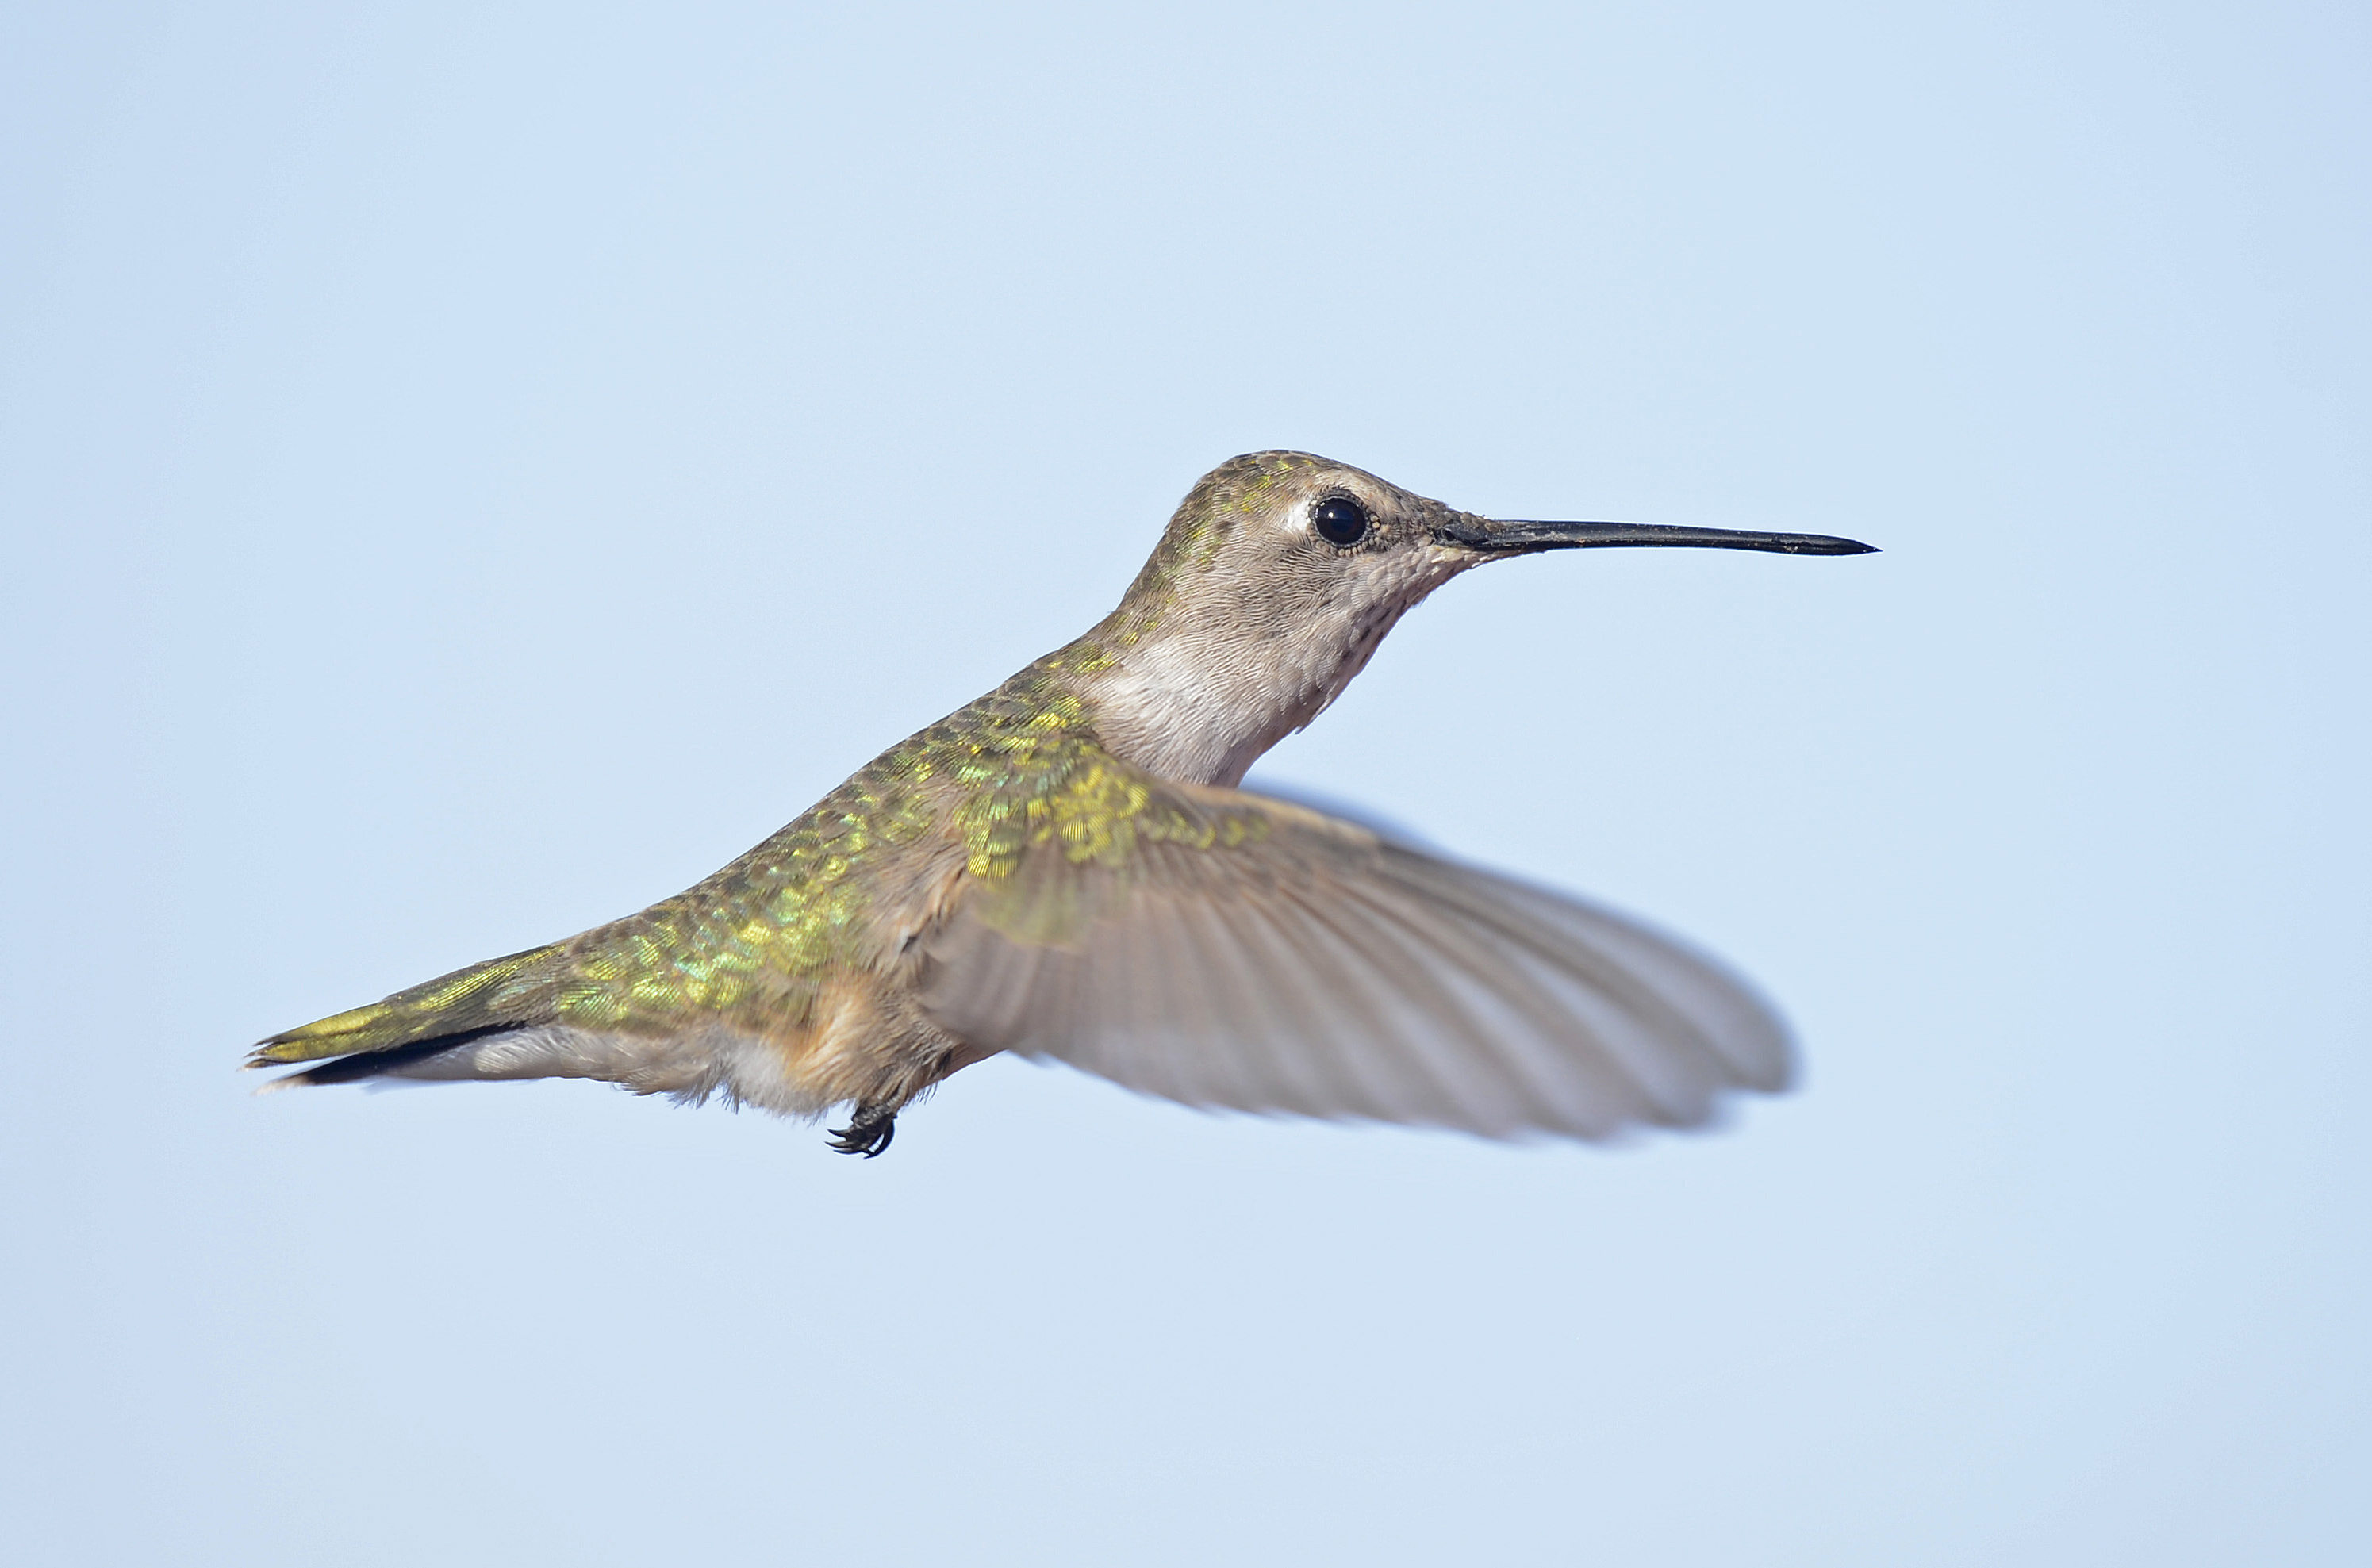archilochus alexandri: (250, 443, 1880, 1183)
